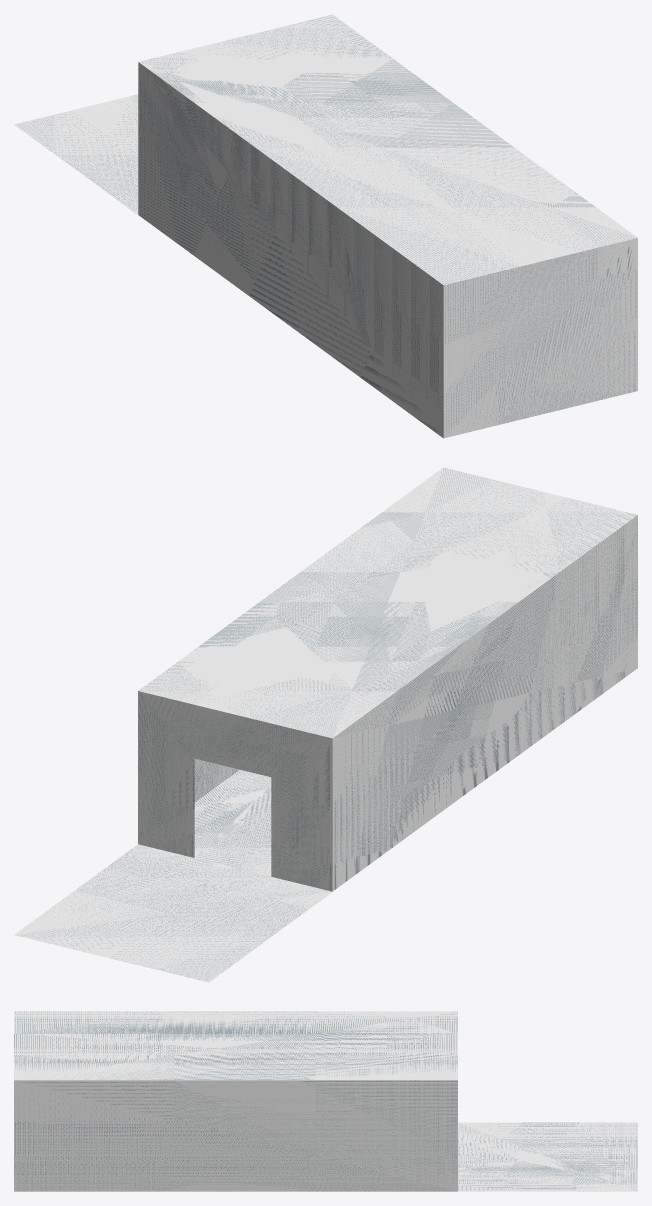
File: Enviro1.dae
3 views of the same model, one above another, from view 1: azimuth 30°, elevation 25°; view 2: azimuth 150°, elevation 25°; view 3: azimuth 270°, elevation 25° (orthographic). The views are drawn at different scales.
Visible parts, largest first — view 1: SketchUp; view 2: SketchUp; view 3: SketchUp.
Part boxes in pixels (box(x1,y1,x2,y2)): SketchUp: box(14, 14, 637, 438); SketchUp: box(14, 467, 637, 982); SketchUp: box(14, 1011, 637, 1191).
Bounding box in the file's own units: 171 × 653 × 129.
